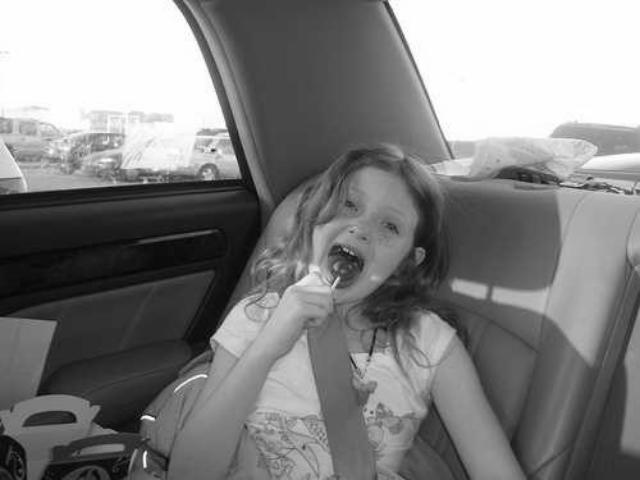SafeDriving: (376, 210, 406, 240)
Seatbelt: (304, 308, 384, 480)
